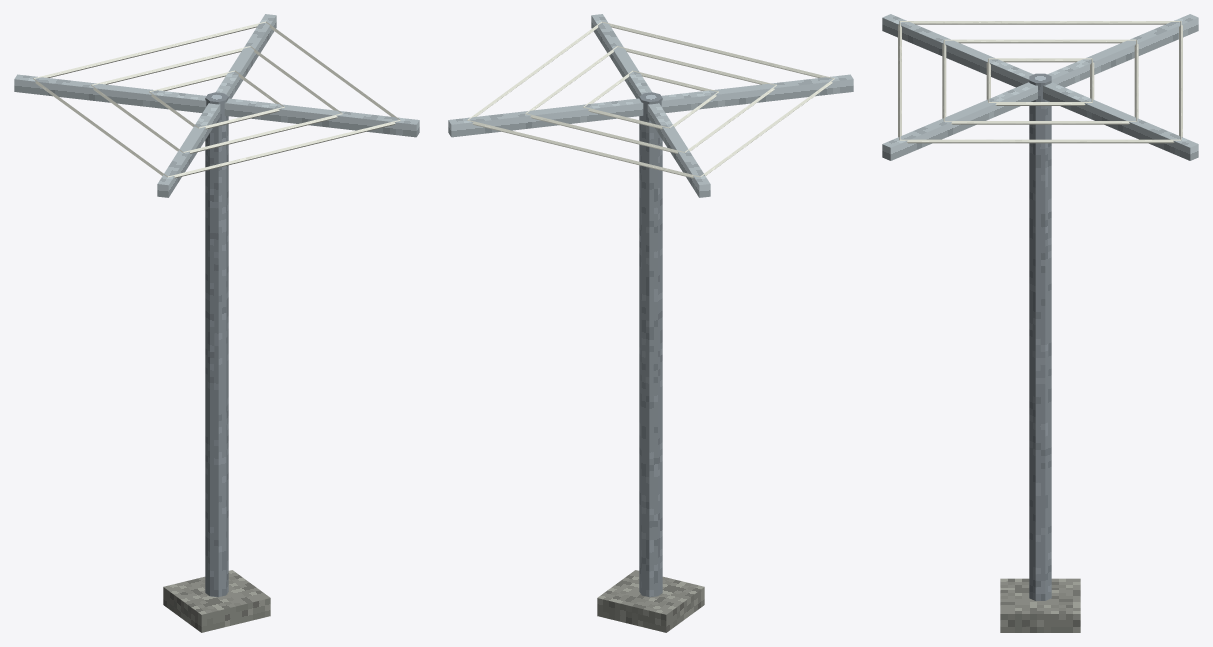
Rendered from f_rotary_clothesline.glb.
3 renders of one model, left to right at view 1: azimuth 30°, elevation 25°; view 2: azimuth 150°, elevation 25°; view 3: azimuth 270°, elevation 25°, orthographic. The views are drawn at different scales.
Parts seen in each view (by area): view 1: block_pole, block_frame (×4), block_footing, block_line-0-0.57, block_line-2-0.57, block_line-0-0.39, block_line-2-0.39; view 2: block_pole, block_frame (×4), block_footing, block_line-2-0.57, block_line-0-0.57, block_line-2-0.39, block_line-0-0.39; view 3: block_pole, block_frame (×4), block_footing, block_line-3-0.57, block_line-1-0.57, block_line-1-0.39, block_line-3-0.39, block_line-0-0.57, block_line-2-0.57.
Part boxes in pixels (x1,y1,x2,y2): block_pole: (205, 92, 228, 597); block_frame (×4): (14, 14, 419, 197); block_footing: (163, 570, 270, 632); block_line-0-0.57: (168, 120, 400, 178); block_line-2-0.57: (34, 21, 265, 78); block_line-0-0.39: (183, 113, 342, 153); block_line-2-0.39: (92, 46, 250, 85); block_pole: (639, 92, 662, 597); block_frame (×4): (448, 14, 853, 197); block_footing: (597, 570, 704, 632); block_line-2-0.57: (467, 120, 699, 178); block_line-0-0.57: (602, 21, 833, 78); block_line-2-0.39: (525, 113, 684, 153); block_line-0-0.39: (617, 46, 775, 85); block_pole: (1029, 73, 1051, 600); block_frame (×4): (882, 14, 1198, 160); block_footing: (1000, 578, 1080, 632); block_line-3-0.57: (900, 139, 1180, 143); block_line-1-0.57: (900, 21, 1180, 24); block_line-1-0.39: (945, 39, 1135, 43); block_line-3-0.39: (944, 121, 1136, 124); block_line-0-0.57: (898, 21, 901, 140); block_line-2-0.57: (1179, 21, 1182, 140).
Bounding box in the file's own units: 0.9086 × 1.7 × 0.9086.
1 material, 1 textured.
